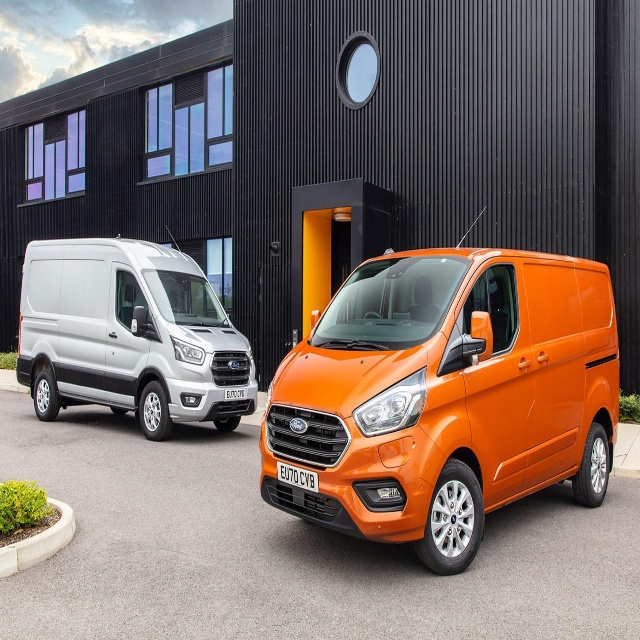Van: (258, 246, 618, 576), (15, 236, 259, 443)
